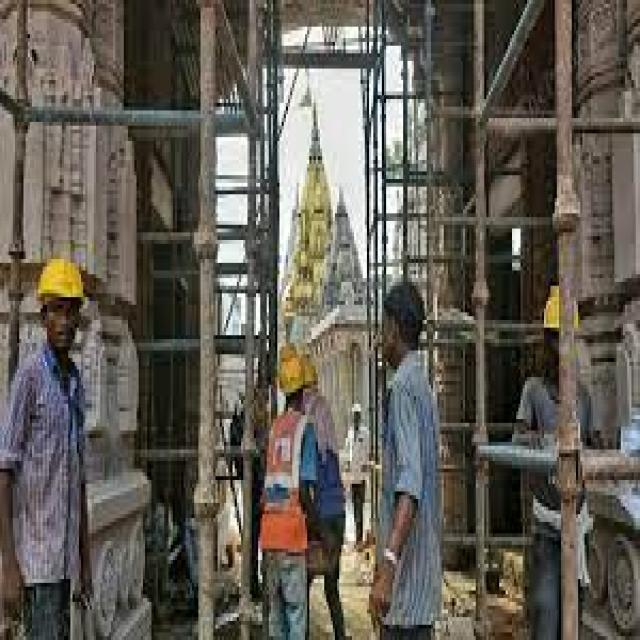Reflective-Jacket: (256, 408, 316, 564)
Safety-Helmet: (30, 248, 94, 320), (271, 339, 322, 404)
